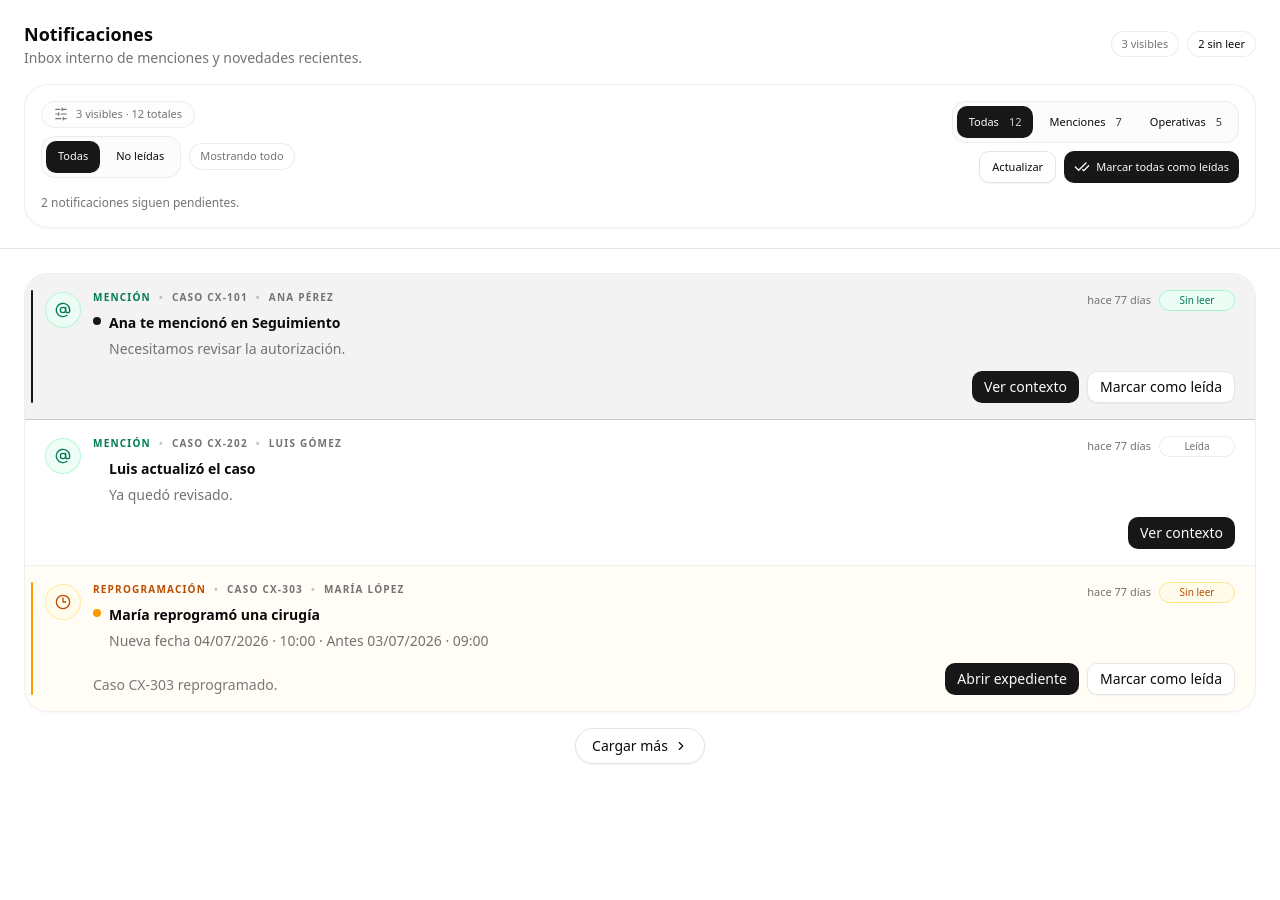
Scenario: NotificationsInbox › pide filtro server-side entre menciones y operativas
The image size is (1280, 900).
Expected: the text "Ana te mencionó en Seguimiento" is shown, x1=109 y1=313 x2=340 y2=332
Expected: the text "María reprogramó una cirugía" is shown, x1=109 y1=605 x2=320 y2=624
Click the button "Menciones 7". click: (1086, 122)
box: x1=1038 y1=106 x2=1134 y2=138
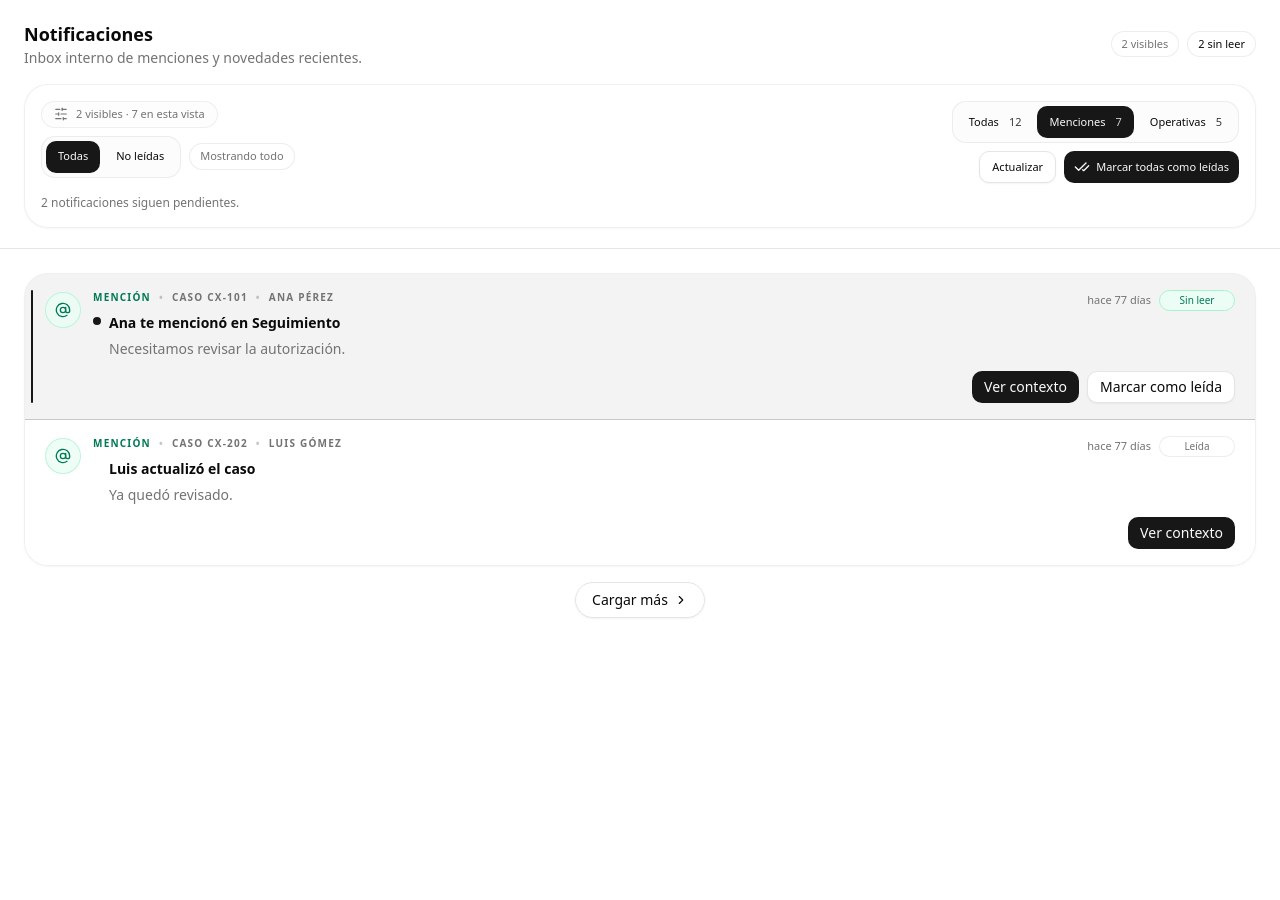
Expected: the text "Ana te mencionó en Seguimiento" is shown, x1=109 y1=313 x2=340 y2=332
Expected: the text "María reprogramó una cirugía" is gone
Click the button "Operativas 5". click: (1186, 122)
box: x1=1138 y1=106 x2=1234 y2=138
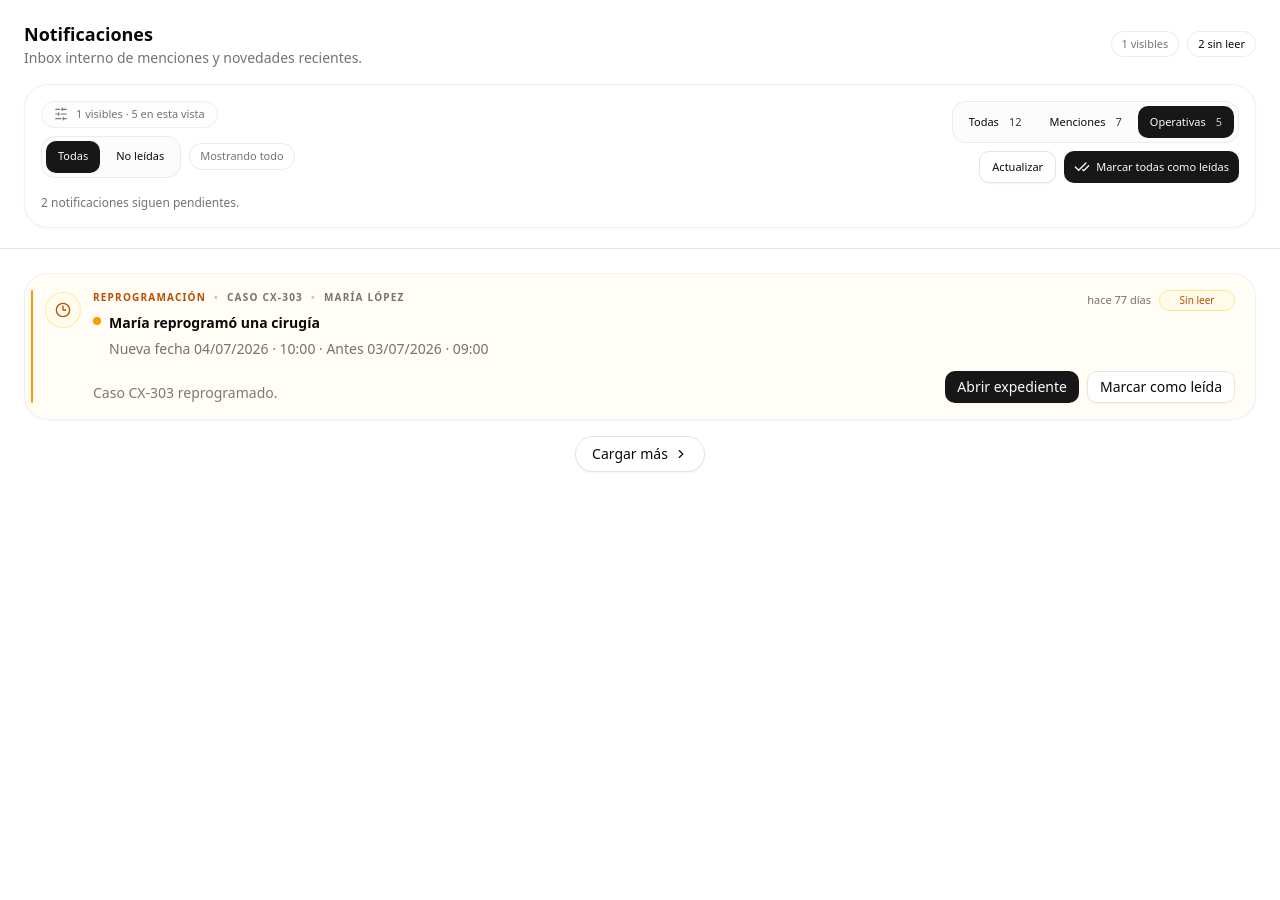
Expected: the text "Ana te mencionó en Seguimiento" is gone
Expected: the text "María reprogramó una cirugía" is shown, x1=109 y1=313 x2=320 y2=332
Expected: the text "1 visibles · 5 en esta vista" is shown, x1=41 y1=101 x2=218 y2=128
